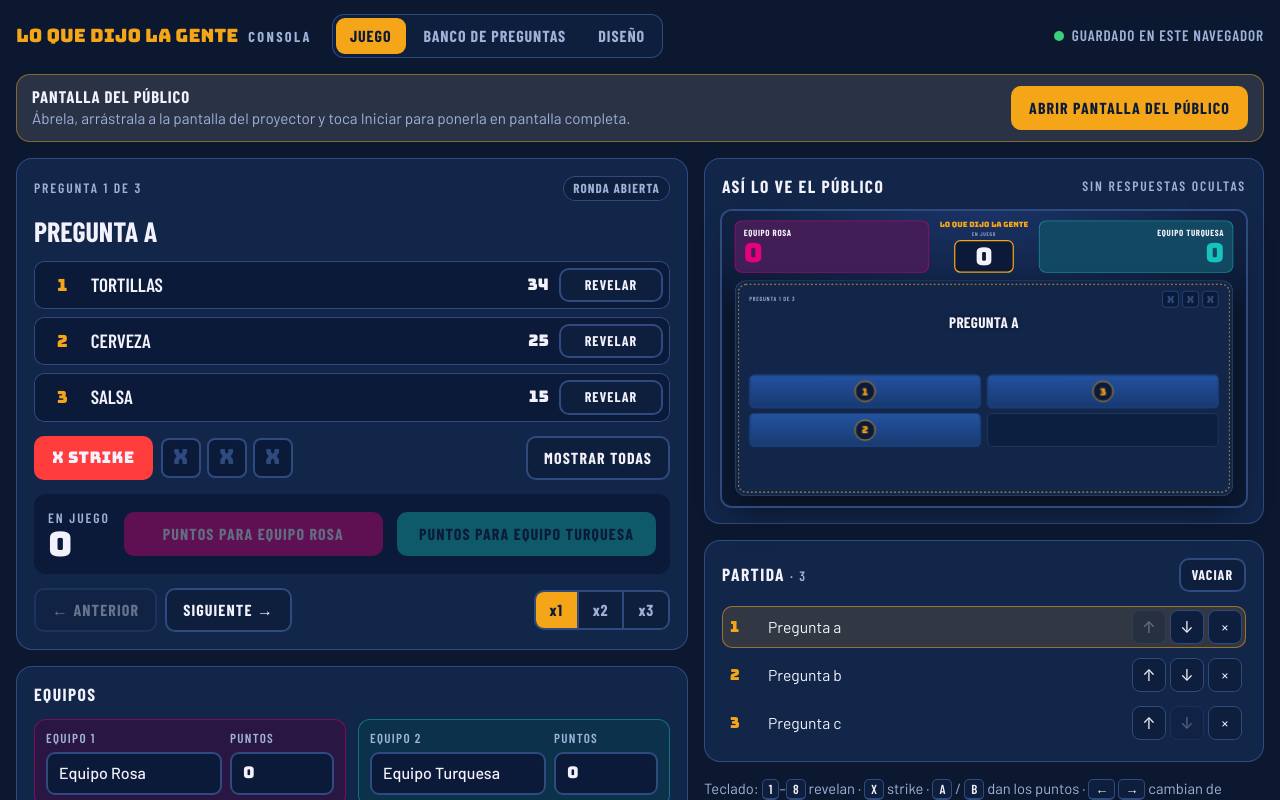
Test: Console · conducting a round › awards the pot once with the team's name and closes the round
Check: the button "Puntos para Equipo Rosa" is disabled, box [124,512,383,556]
What coordinates should you click on to do the following:
click the button "x2"
I would click on:
 (600, 610)
Its box is [577,592,622,628].
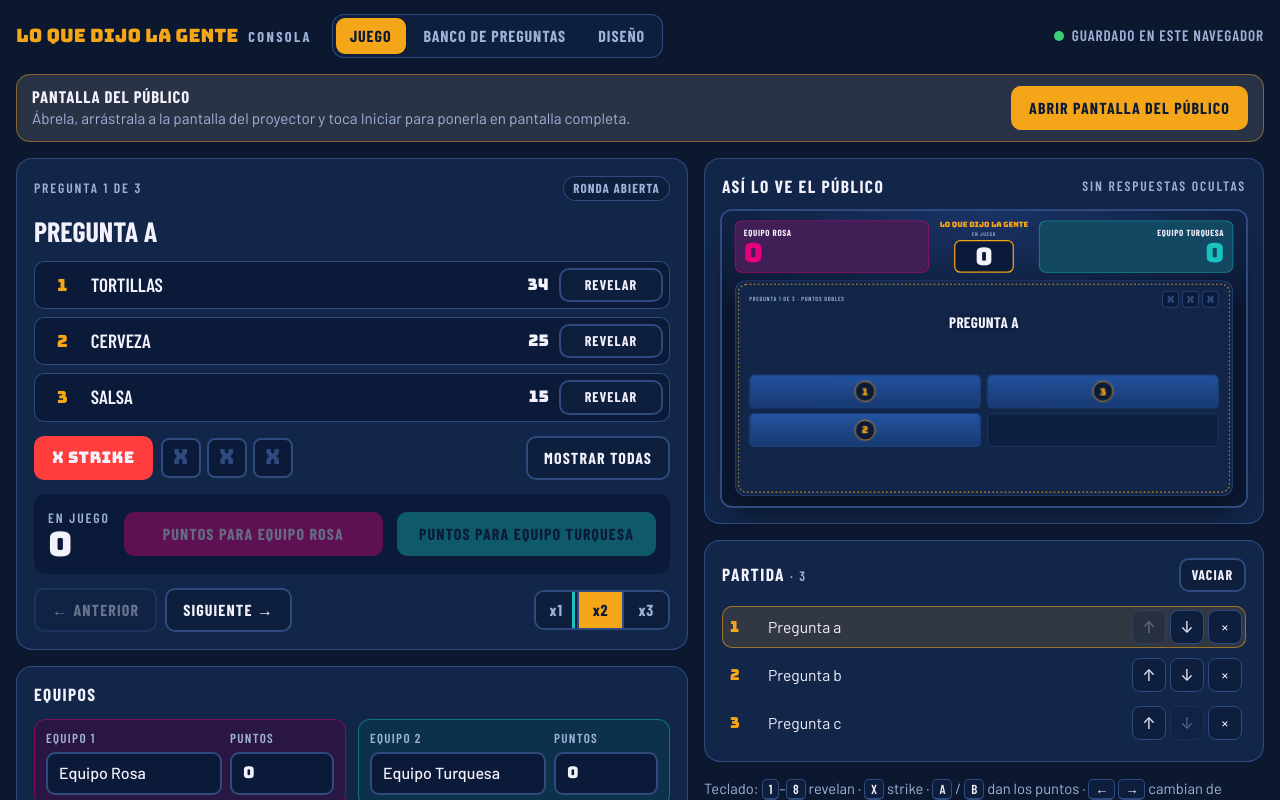
Check: the button "x2" is pressed, box [577,592,622,628]
What coordinates should you click on to do the following:
click the button with aria-label "Revelar respuesta 1"
I would click on:
 (611, 285)
Its box is [559,268,663,302].
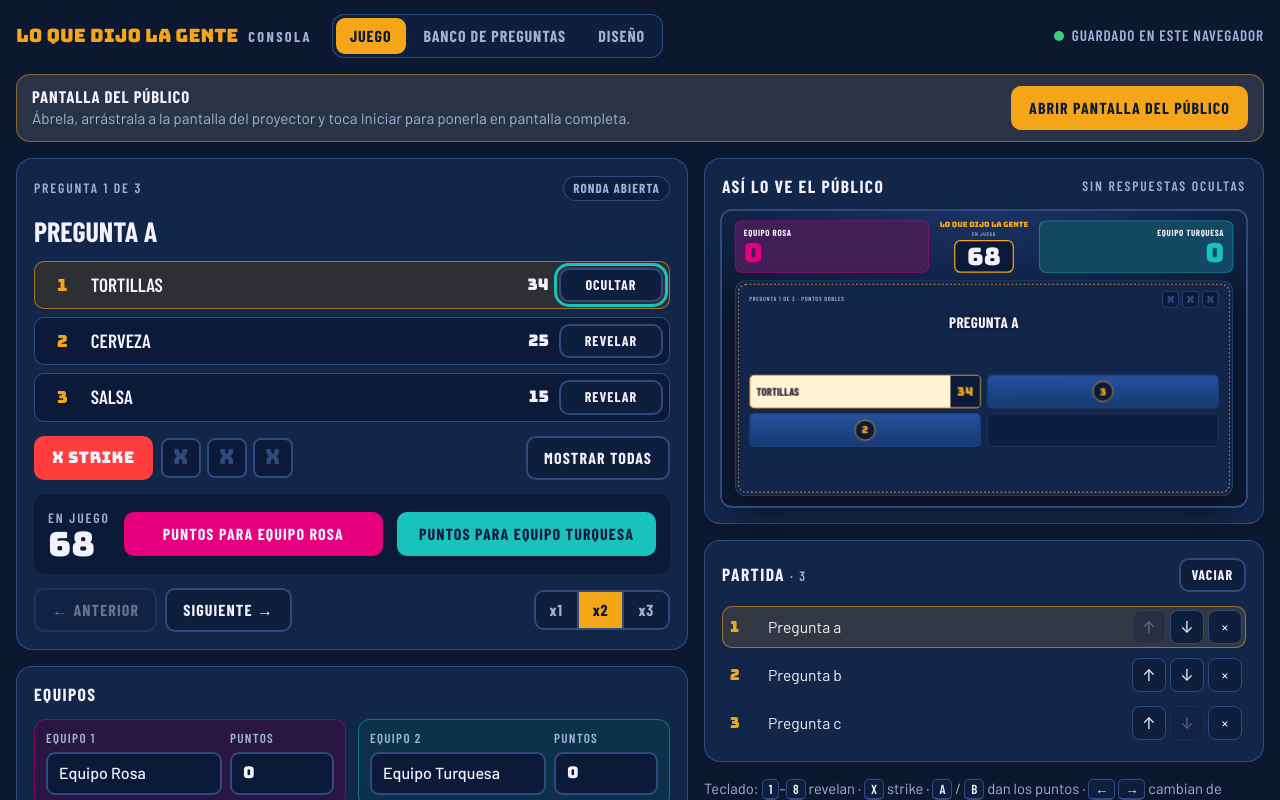
Check: the text with id "hPot" reads "68", box [48,522,95,566]
What coordinates should you click on to do the following:
click the button "Puntos para Equipo Rosa"
I would click on:
 (253, 534)
Its box is [124,512,383,556].
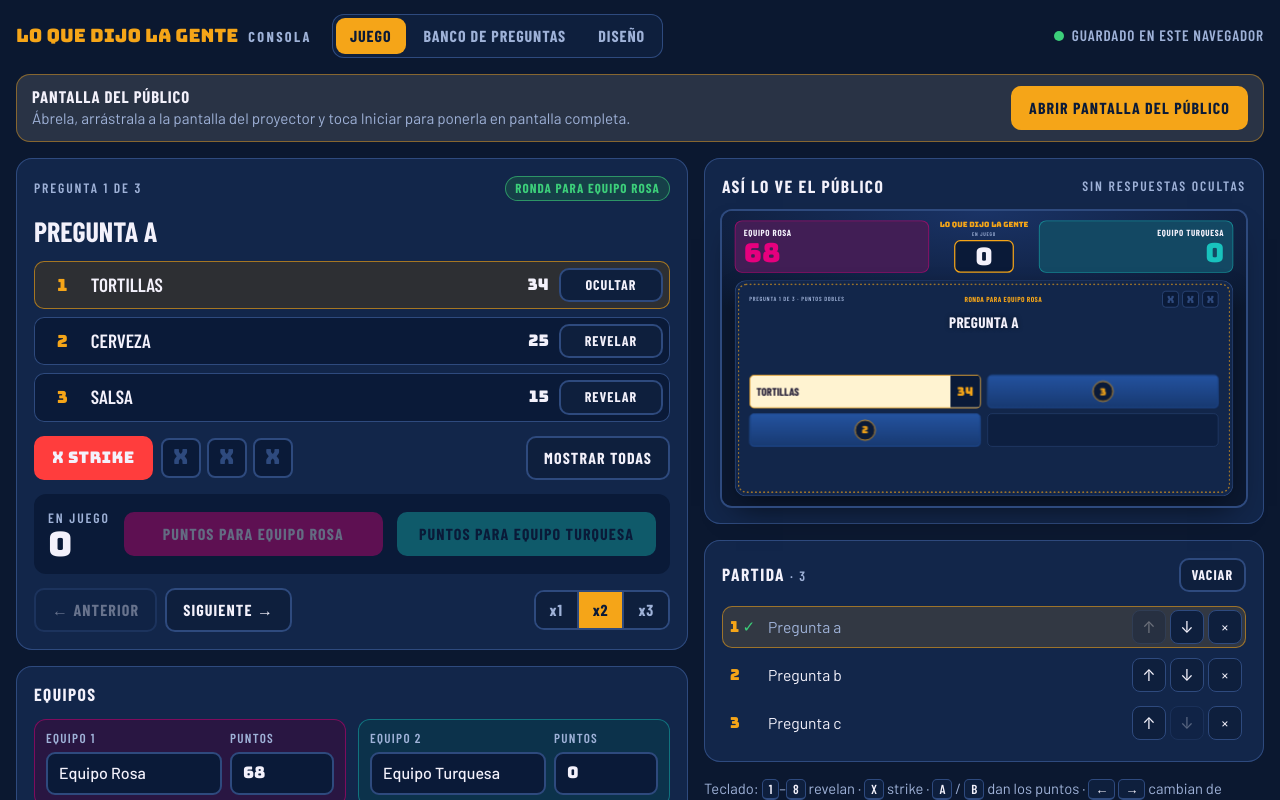
Check: the button "Puntos para Equipo Rosa" is disabled, box [124,512,383,556]
Check: the button "Puntos para Equipo Turquesa" is disabled, box [397,512,656,556]
